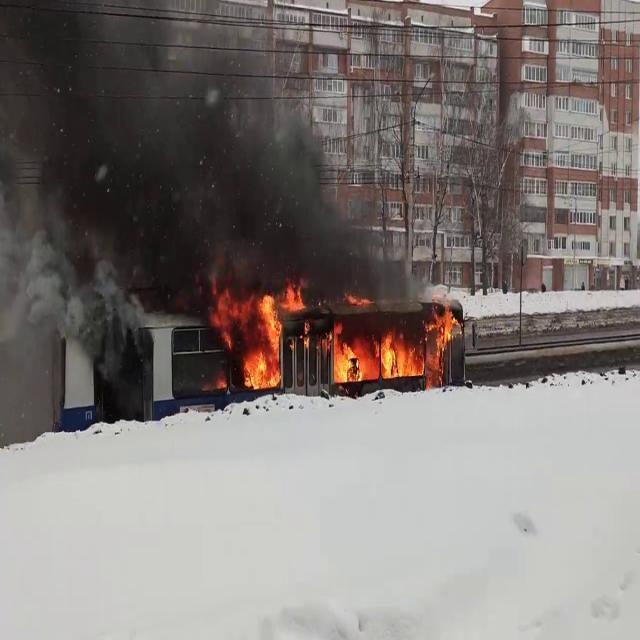Fire: (323, 304, 462, 384), (225, 279, 302, 389)
Smoke: (0, 0, 416, 338)
